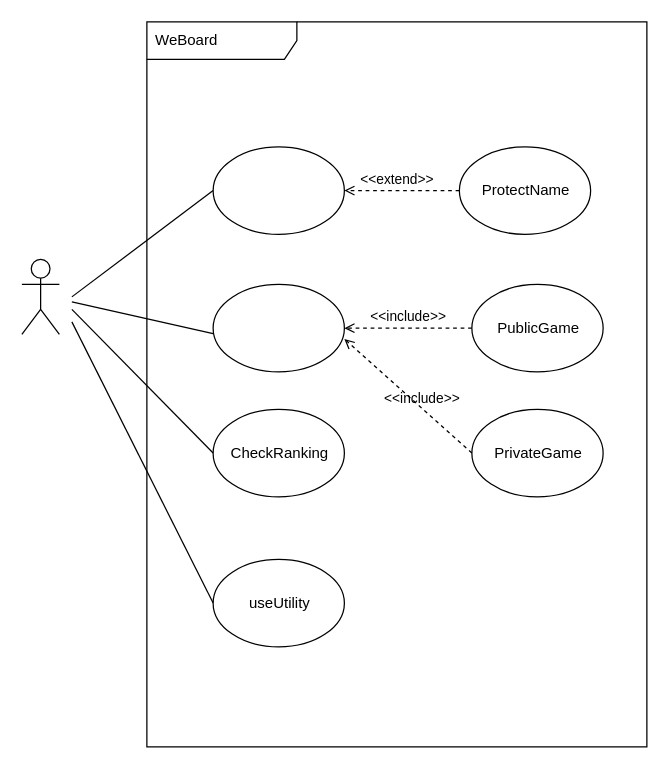
The diagram is 669 pixels wide and 769 high, and some of its shapes have lost their labels. Each missing label, with the centre of its shape:
PickName: the point at 278,190
PlayGame: the point at 278,327
User: the point at 40,296
